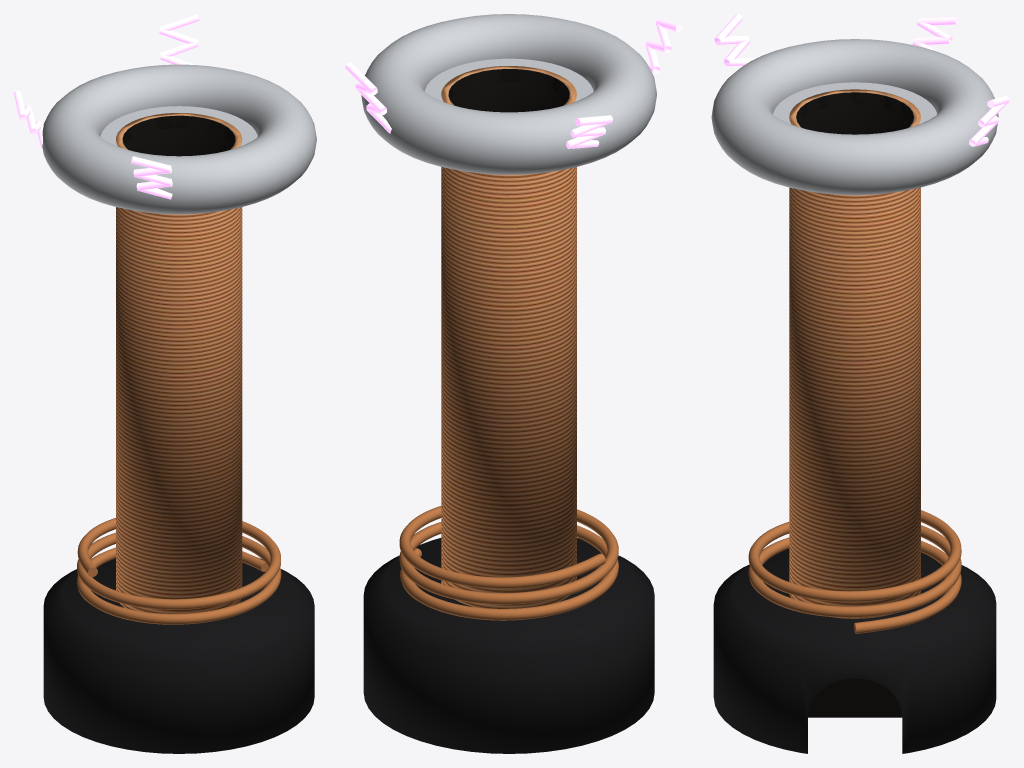
The model's file is tesla-coil.glb.
3 views of the same model, side by side, from view 1: azimuth 30°, elevation 25°; view 2: azimuth 150°, elevation 25°; view 3: azimuth 270°, elevation 25° (orthographic). The views are drawn at different scales.
Visible parts, largest first — view 1: coil, base.002, toroid, primary, arcs, plate.001; view 2: coil, base.002, toroid, primary, arcs, plate.001; view 3: coil, base.002, toroid, primary, arcs, plate.001.
Boxes of the visible parts, <box> form: coil: <box>116,113,242,613</box>; base.002: <box>43,557,314,753</box>; toroid: <box>42,64,316,214</box>; primary: <box>76,518,281,624</box>; arcs: <box>14,14,199,199</box>; plate.001: <box>100,106,257,146</box>; coil: <box>441,66,576,608</box>; base.002: <box>363,538,654,753</box>; toroid: <box>361,14,656,174</box>; primary: <box>399,506,618,620</box>; arcs: <box>345,18,682,148</box>; plate.001: <box>424,58,593,101</box>; coil: <box>789,89,920,618</box>; base.002: <box>713,549,996,753</box>; toroid: <box>711,39,998,195</box>; primary: <box>748,510,961,633</box>; arcs: <box>714,14,1009,146</box>; plate.001: <box>773,82,936,124</box>.
Size of the model in its own units: 6.33 by 15 by 6.33.
8 materials, 1 textured.
